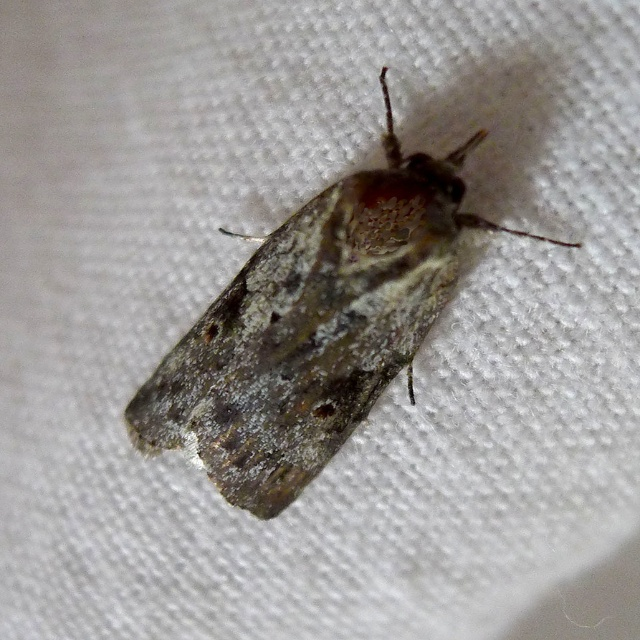Moths and butterflies: (123, 64, 585, 520)
